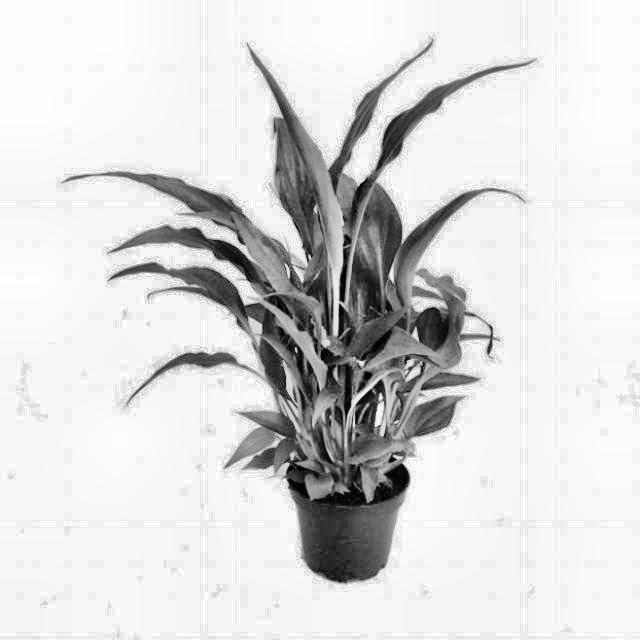plants: (180, 83, 515, 490)
